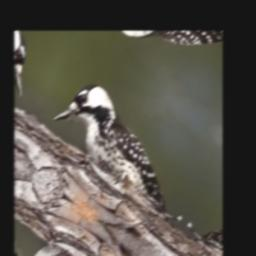Woodpecker: (43, 65, 194, 222)
